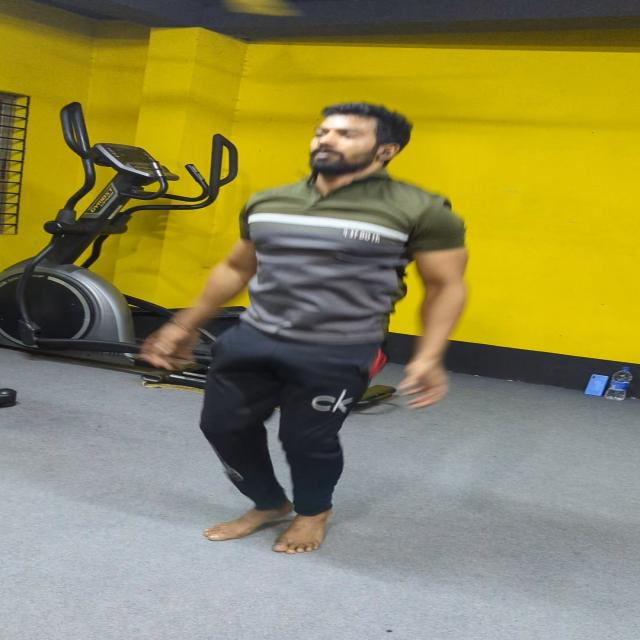Normal_JumpingJacks: (42, 76, 551, 606)
